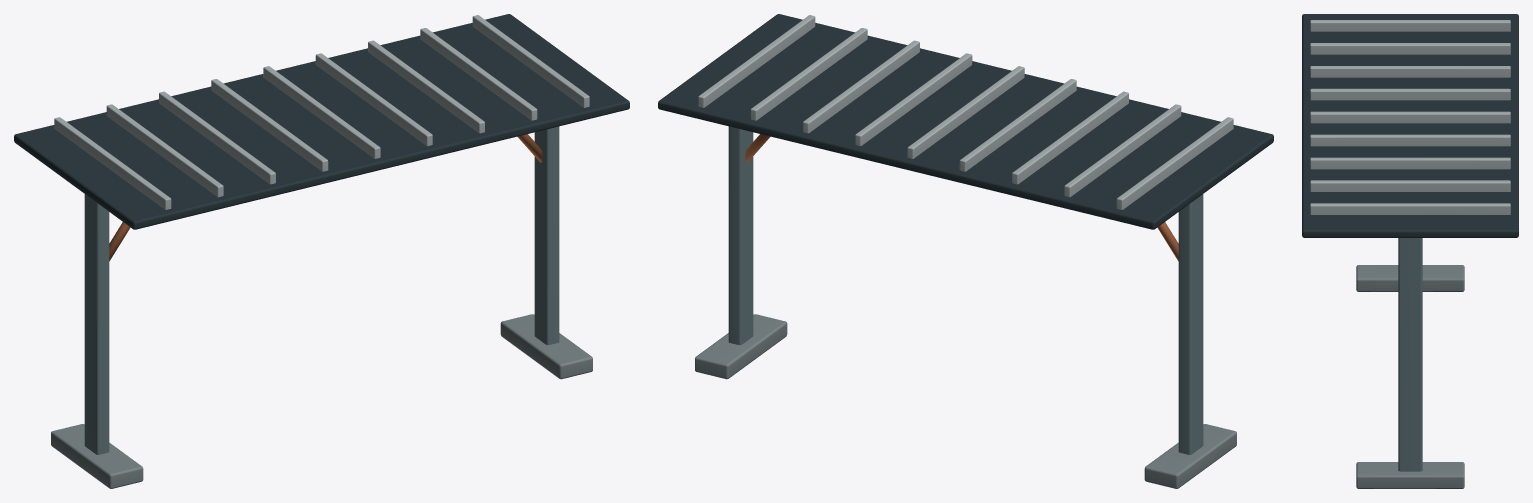
Rendered from covered_walk.glb.
The picture shows the model from 3 angles, left to right: view 1: azimuth 30°, elevation 25°; view 2: azimuth 150°, elevation 25°; view 3: azimuth 270°, elevation 25°; orthographic projection. The views are drawn at different scales.
Visible parts, largest first — view 1: covered_walk; view 2: covered_walk; view 3: covered_walk.
Part boxes in pixels (left/top/right/bottom): covered_walk: left=14, top=14, right=629, bottom=488; covered_walk: left=658, top=14, right=1273, bottom=488; covered_walk: left=1302, top=14, right=1518, bottom=488.
Size of the model in its own units: 9.5 by 5.52 by 4.
